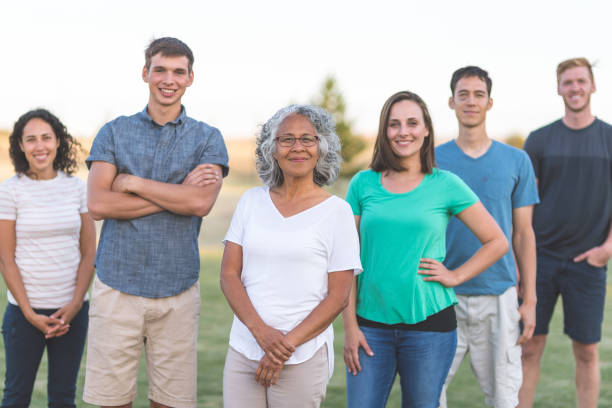face: (278, 120, 320, 175), (150, 55, 188, 106), (19, 122, 59, 169), (388, 107, 425, 157), (456, 80, 487, 128), (559, 70, 593, 110)
